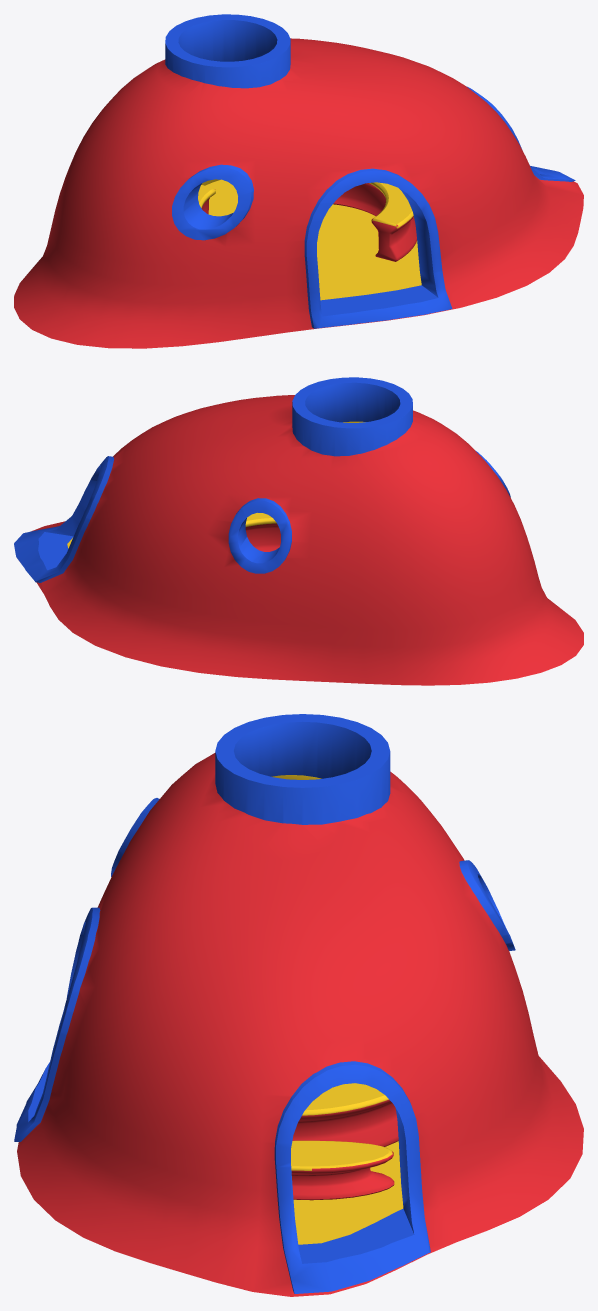
The model's file is adobe_06_long_heel.glb.
3 renders of one model, top to bottom at view 1: azimuth 30°, elevation 25°; view 2: azimuth 150°, elevation 25°; view 3: azimuth 270°, elevation 25°, orthographic. The views are drawn at different scales.
Visible parts, largest first — view 1: 06 • Long Heel, 06 • East curved counter; view 2: 06 • Long Heel, 06 • East curved counter; view 3: 06 • Long Heel, 06 • East plateau bench, 06 • East curved counter.
Boxes of the visible parts, bbox=[...] form: 06 • Long Heel: bbox=[14, 14, 583, 348]; 06 • East curved counter: bbox=[333, 182, 416, 261]; 06 • Long Heel: bbox=[14, 377, 583, 685]; 06 • East curved counter: bbox=[245, 512, 280, 551]; 06 • Long Heel: bbox=[14, 714, 583, 1296]; 06 • East plateau bench: bbox=[291, 1140, 394, 1200]; 06 • East curved counter: bbox=[292, 1083, 398, 1146].
Size of the model in its own units: 9.25 by 3.54 by 5.87.
